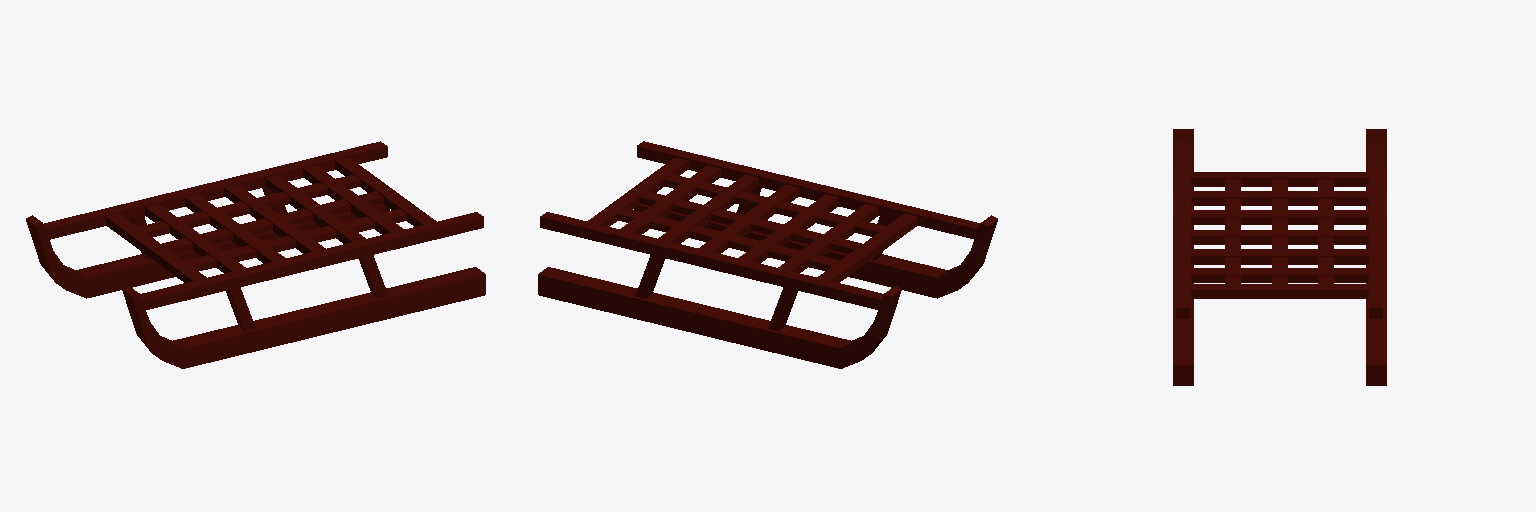
Rendered from luge.obj.
3 renders of one model, left to right at view 1: azimuth 30°, elevation 25°; view 2: azimuth 150°, elevation 25°; view 3: azimuth 270°, elevation 25°, orthographic.
Visible parts, largest first — view 1: Luge.011; view 2: Luge.011; view 3: Luge.011.
Boxes of the visible parts, box(x1,y1,x2,y2) form: Luge.011: box(26, 141, 485, 368); Luge.011: box(538, 141, 997, 368); Luge.011: box(1173, 129, 1386, 385).
Size of the model in its own units: 1.46 by 0.34 by 0.7641.